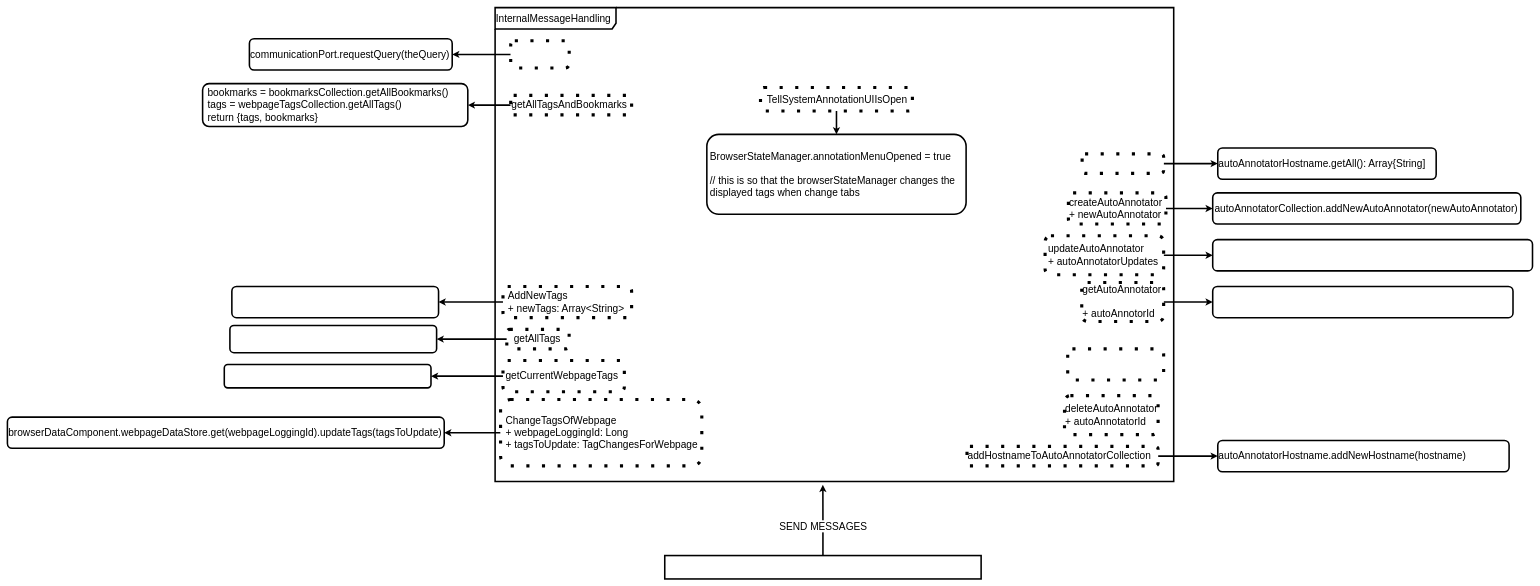
Image size: 1540x586. Some labels were removed from this diagram. The centre of each missing label's shape, as x and y in pixels:
"autoAnnotatorCollection.getAutoAnnotatorById(autoAnnotatorId)" goes at (1363,301).
"autoAnnotatorCollection.updateAutoAnnotator(autoAnnotatorUpdates)" goes at (1372,255).
"getAllAutoCollectors" goes at (1115,364).
"getAllHostnames" goes at (1122,163).
"Query +theQuery" goes at (540,54).
"SIDEBAR MENU OF 'QUERY FORM' OR 'ANNOTATION FORM'." goes at (823,567).
"webpageTags.addNewTags(newTags)" goes at (335,301).
"webpageTags.getAllTags()" goes at (333,338).
"webpageTags.getCurrentWebpageTags()" goes at (327,375).
